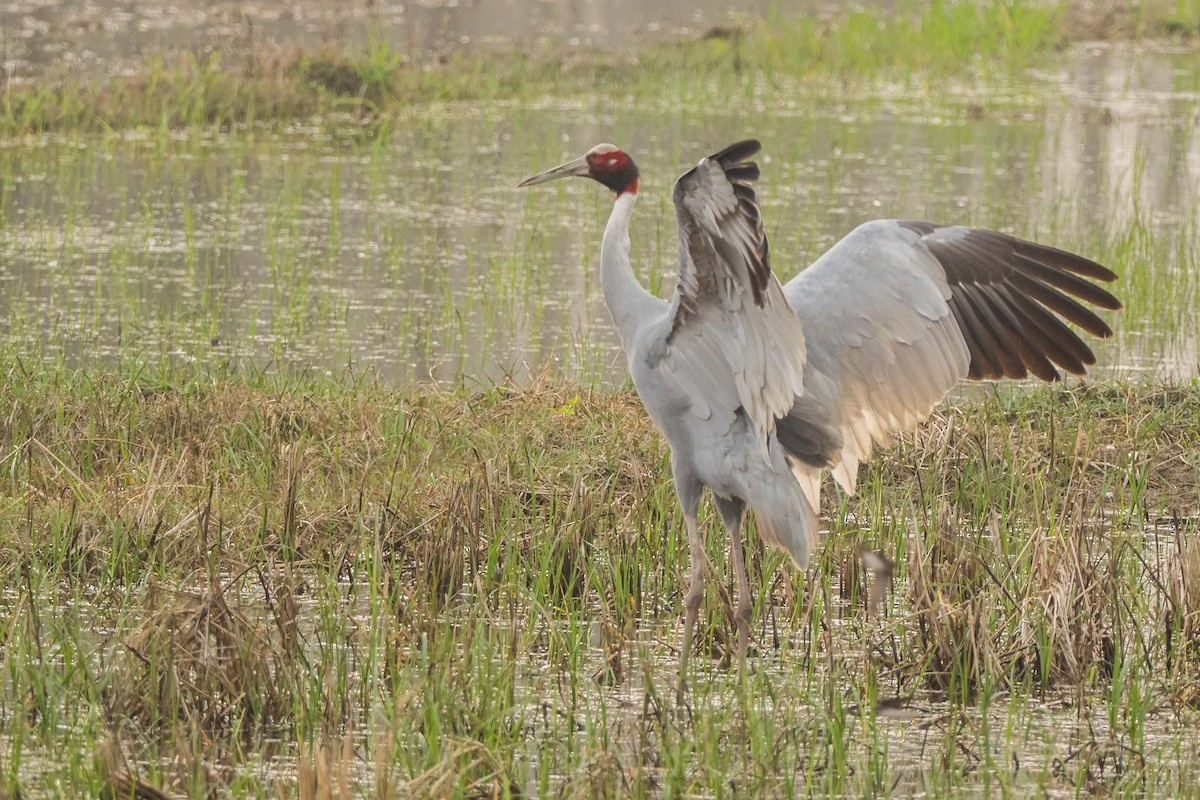crane: (504, 125, 1137, 673)
